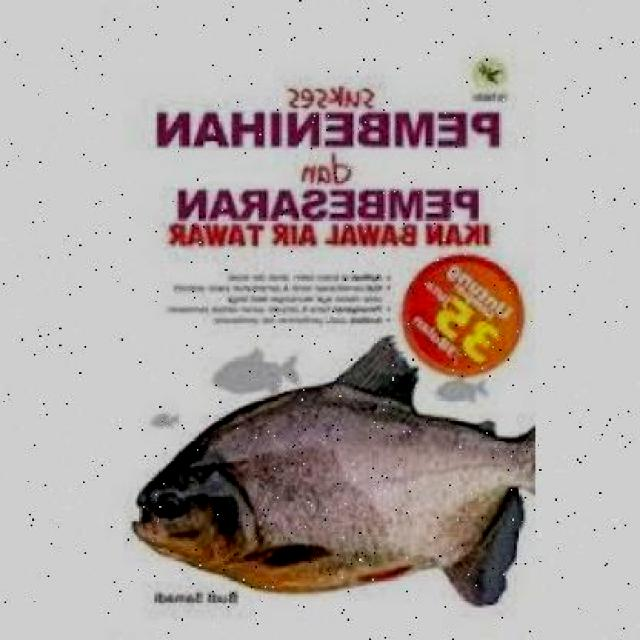ikan-pacu: (134, 382, 537, 590)
